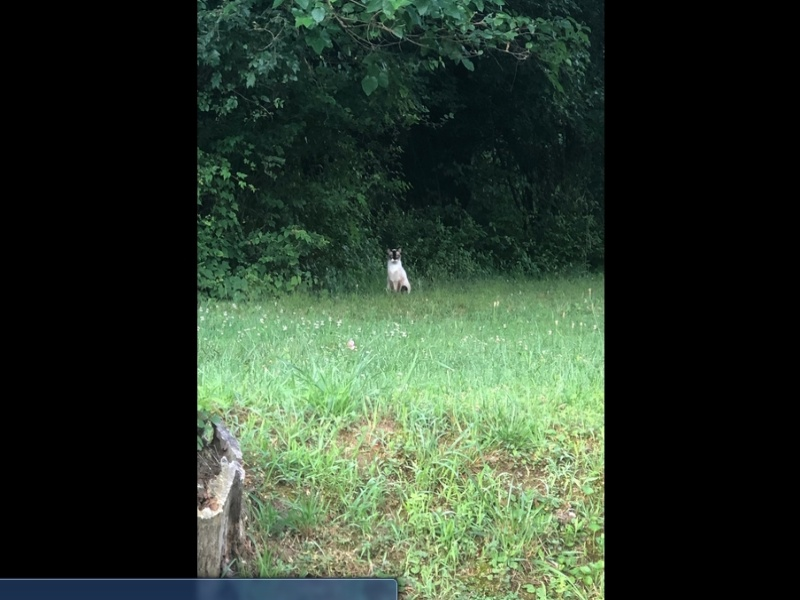cat: (383, 246, 411, 293)
